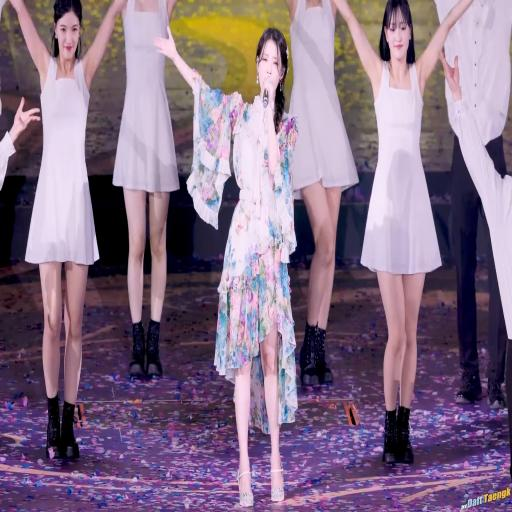IU: (256, 29, 289, 96)
